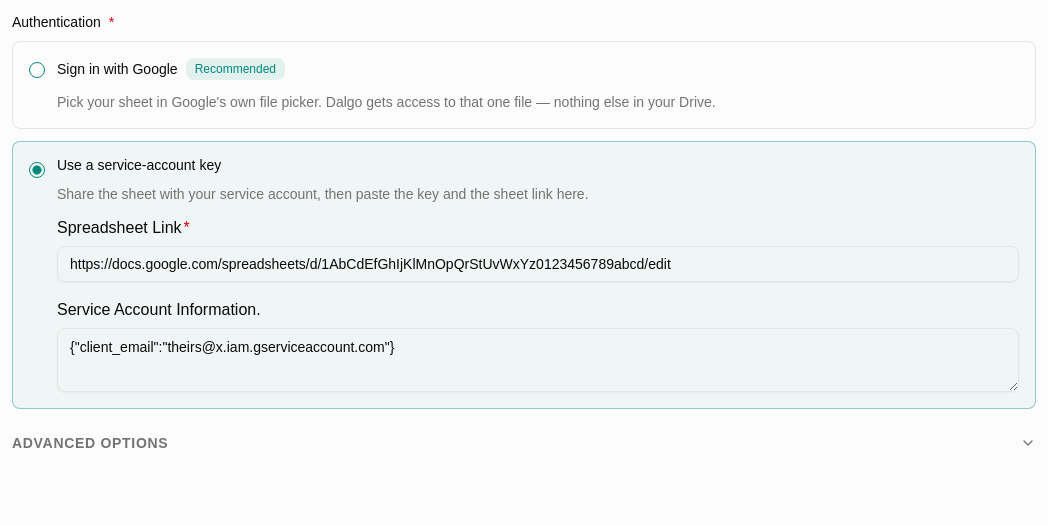
Test: GoogleSheetsForm › once connected through Google › warns when a service-account source types a different sheet
The width and height of the screenshot is (1048, 525).
Replace the text in the field labelled "Spreadsheet Link*" with "https://docs.google.com/spreadsheets/d/9ZyXwVuTsRqPoNmLkJiHgFeDcBa9876543210zyxw/edit": (538, 264) [57,246,1019,282]
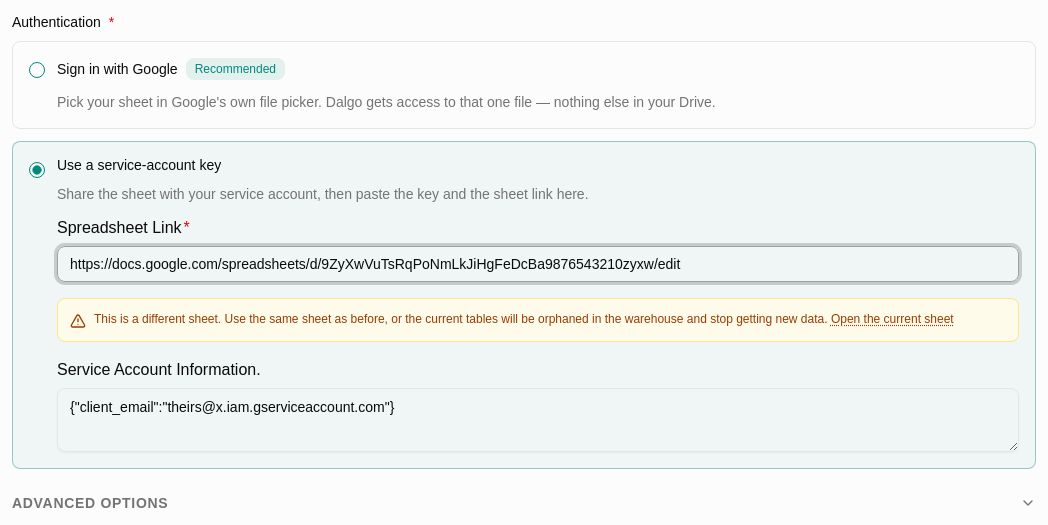
Result: the element with test id "gsheets-service-sheet-mismatch" is shown at [57,298,1019,342]
